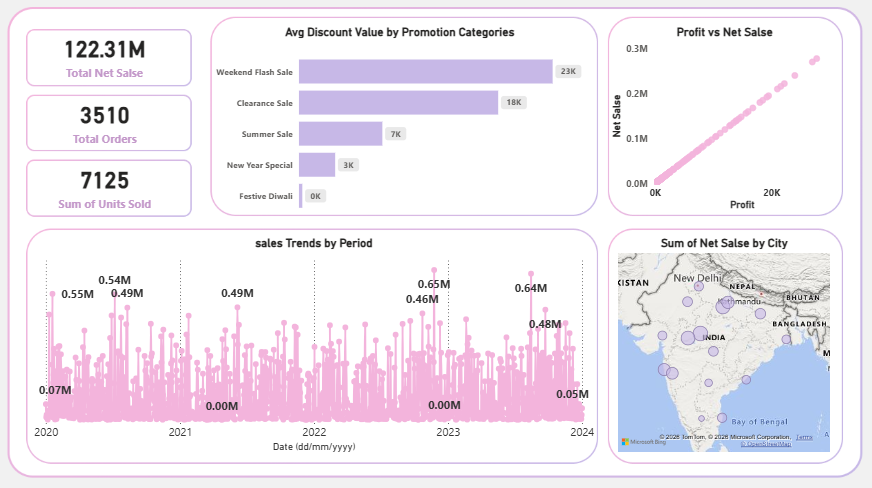

This screenshot's page, from the dashboard's own definition file:
{"tool":"powerbi","page":{"name":"OverView","canvas":[1280,720],"ordinal":1},"visuals":[{"type":"lineChart","title":"sales Trends by Period","fields":{"Y":["Sum(Fact Table.Net Salse)"],"Category":["Fact Table.Date (dd/mm/yyyy).Variation.Date Hierarchy.Year"]},"box":[52.3,346.2,823.1,318.5],"z":0},{"type":"scatterChart","title":"Profit  vs Net Salse","fields":{"X":["Fact Table.Profit "],"Y":["Fact Table.Net Salse"]},"box":[889.2,40,338.5,273.8],"z":1000},{"type":"barChart","title":"Avg Discount Value by Promotion Categories","fields":{"Y":["Avg(Fact Table.Discount Value)"],"Category":["Dim Promotion.Promotion Name"]},"box":[315.4,40,544.6,289.2],"z":2000},{"type":"map","fields":{"Category":["Dim Customers.City"],"Size":["Sum(Fact Table.Net Salse)"]},"box":[900,346.2,316.9,318.5],"z":3000},{"type":"card","fields":{"Values":["Sum(Fact Table.Net Salse)"]},"box":[52.3,29.2,215.4,107.7],"z":3001},{"type":"card","fields":{"Values":["Count(Fact Table.Index)"]},"box":[38.5,124.6,243.1,107.7],"z":3002},{"type":"card","fields":{"Values":["Sum(Fact Table.Units Sold)"]},"box":[38.5,218.5,243.1,109.2],"z":3003}]}

Visuals, with their boxes in screenshot pixels (x1, y1, x2, y2), scaled from the page's 1280x720 canvas onto the 872x488 screenshot:
"sales Trends by Period" lineChart: region(36, 235, 596, 451)
"Profit  vs Net Salse" scatterChart: region(606, 27, 836, 213)
"Avg Discount Value by Promotion Categories" barChart: region(215, 27, 586, 223)
map - Dim Customers.City x Sum(Fact Table.Net Salse): region(613, 235, 829, 451)
card - Sum(Fact Table.Net Salse): region(36, 20, 182, 93)
card - Count(Fact Table.Index): region(26, 84, 192, 157)
card - Sum(Fact Table.Units Sold): region(26, 148, 192, 222)
